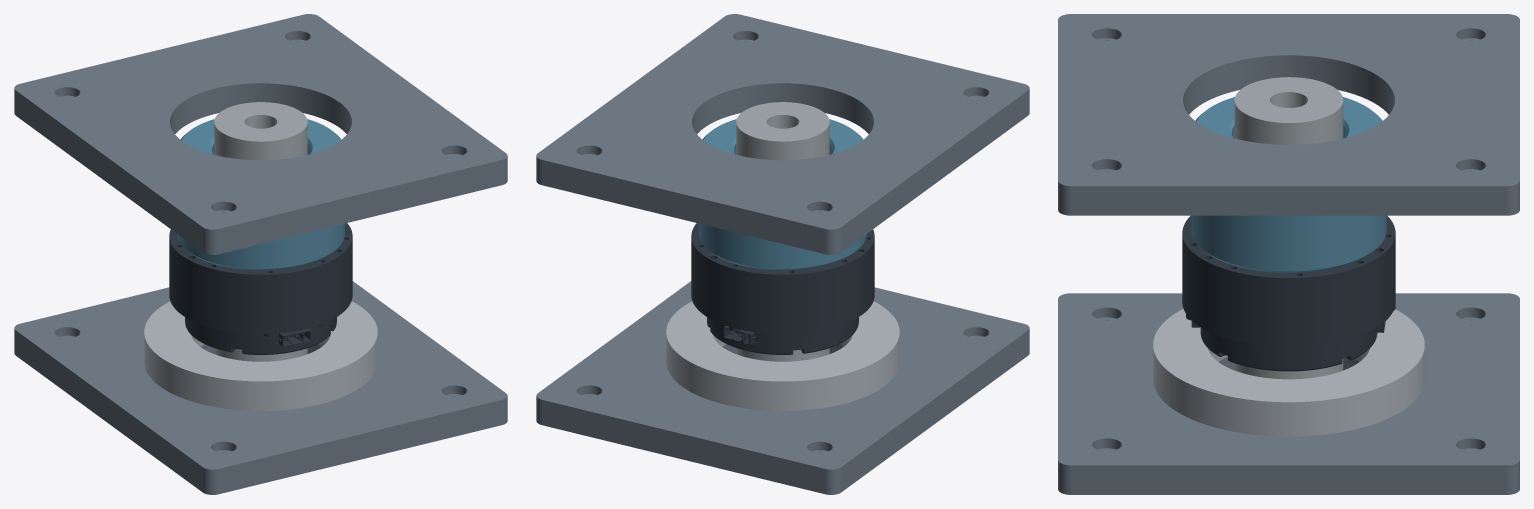
File: munonoid-right-shoulder-v0.glb
The picture shows the model from 3 angles, left to right: view 1: azimuth 30°, elevation 25°; view 2: azimuth 150°, elevation 25°; view 3: azimuth 270°, elevation 25°; orthographic projection. The views are drawn at different scales.
Visible parts, largest first — view 1: SHO-PLATE-OUT, SHO-PLATE-IN, MOT-RS02, SHO-BEARING, SHO-SHAFT, SHO-CAPSTAN; view 2: SHO-PLATE-OUT, SHO-PLATE-IN, MOT-RS02, SHO-BEARING, SHO-SHAFT, SHO-CAPSTAN; view 3: SHO-PLATE-OUT, SHO-PLATE-IN, MOT-RS02, SHO-BEARING, SHO-CAPSTAN, SHO-SHAFT.
Part boxes in pixels (<box>): SHO-PLATE-OUT: <box>14,14,507,254</box>; SHO-PLATE-IN: <box>14,281,507,494</box>; MOT-RS02: <box>169,223,352,354</box>; SHO-BEARING: <box>144,301,377,410</box>; SHO-SHAFT: <box>214,102,307,361</box>; SHO-CAPSTAN: <box>177,119,344,270</box>; SHO-PLATE-OUT: <box>536,14,1029,254</box>; SHO-PLATE-IN: <box>536,281,1029,494</box>; MOT-RS02: <box>691,223,874,354</box>; SHO-BEARING: <box>666,301,899,410</box>; SHO-SHAFT: <box>736,102,829,361</box>; SHO-CAPSTAN: <box>699,119,866,270</box>; SHO-PLATE-OUT: <box>1058,14,1519,215</box>; SHO-PLATE-IN: <box>1058,293,1519,494</box>; MOT-RS02: <box>1182,216,1395,371</box>; SHO-BEARING: <box>1153,309,1424,436</box>; SHO-CAPSTAN: <box>1191,97,1386,272</box>; SHO-SHAFT: <box>1234,77,1343,379</box>.
Bounding box in the file's own units: 150 × 125 × 170.
